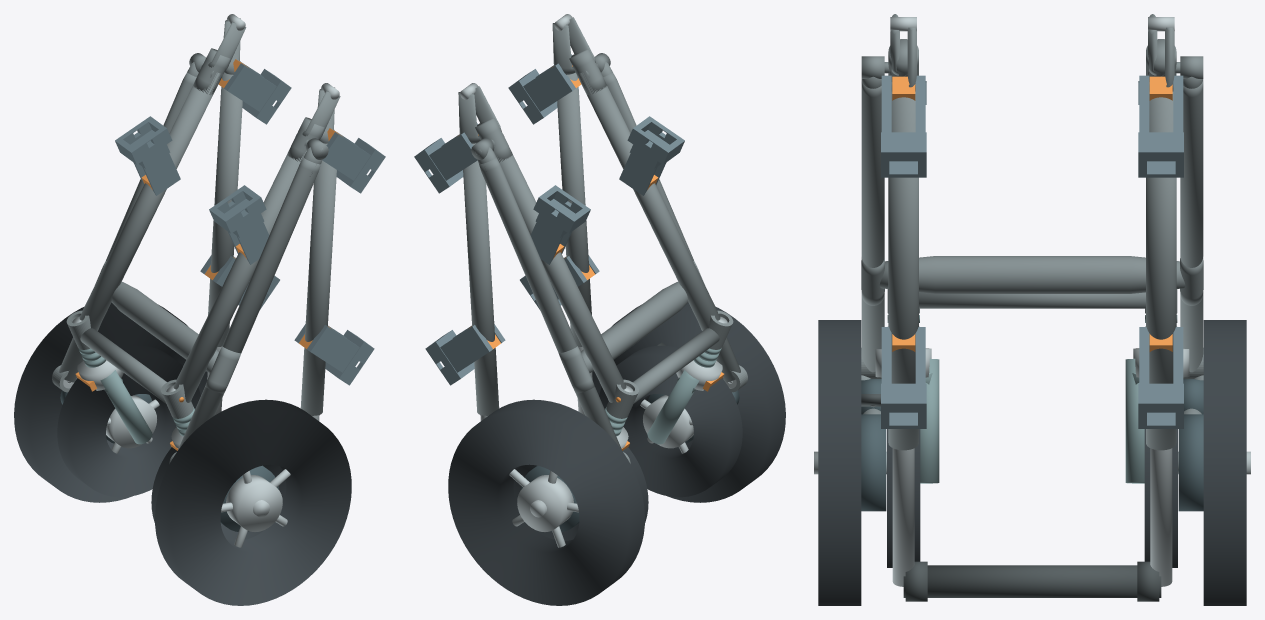
Rendered from w380_state3_wheel_M.glb.
The picture shows the model from 3 angles, left to right: view 1: azimuth 30°, elevation 25°; view 2: azimuth 150°, elevation 25°; view 3: azimuth 270°, elevation 25°; orthographic projection. The views are drawn at different scales.
Parts seen in each view (by area): view 1: RL_tire.013, FR_tire.013, RR_tire.013, V46_rear_leg_-1, main_upper_-1.001, main_lower_1.001, main_lower_-1.001, main_upper_1.001, Universal_Cabin_Receiver_L_1, V46_rearbar, Universal_Cabin_Receiver_L_-1, Universal_Cabin_Receiver_H_-1 (+18 smaller); view 2: RR_tire.013, FL_tire.013, RL_tire.013, V46_rear_leg_1, main_upper_1.001, main_lower_-1.001, main_lower_1.001, main_upper_-1.001, Universal_Cabin_Receiver_L_-1, V46_rearbar, Universal_Cabin_Receiver_L_1, Universal_Cabin_Receiver_H_1 (+18 smaller); view 3: RL_tire.013, RR_tire.013, V46_rearbar, main_upper_1.001, main_upper_-1.001, round_handle.012, V46_rear_leg_1, V46_rear_leg_-1, front_fixed_round_tube.012, Universal_Cabin_Receiver_M_1, Universal_Cabin_Receiver_M_-1, Universal_Cabin_Receiver_H_1 (+16 smaller).
Boxes of the visible parts, box(x1,y1,x2,y2) form: RL_tire.013: box(155, 399, 351, 605); FR_tire.013: box(57, 345, 200, 497); RR_tire.013: box(14, 302, 207, 502); V46_rear_leg_-1: box(178, 157, 320, 449); main_upper_-1.001: box(300, 143, 336, 415); main_lower_1.001: box(79, 72, 220, 330); main_lower_-1.001: box(173, 151, 306, 402); main_upper_1.001: box(208, 72, 242, 346); Universal_Cabin_Receiver_L_1: box(115, 116, 180, 195); V46_rearbar: box(111, 282, 218, 372); Universal_Cabin_Receiver_L_-1: box(209, 185, 269, 264); Universal_Cabin_Receiver_H_-1: box(294, 324, 374, 385); RR_tire.013: box(448, 399, 644, 605); FL_tire.013: box(599, 345, 742, 497); RL_tire.013: box(592, 302, 785, 502); V46_rear_leg_1: box(479, 157, 621, 449); main_upper_1.001: box(463, 143, 499, 415); main_lower_-1.001: box(579, 72, 720, 330); main_lower_1.001: box(493, 151, 626, 402); main_upper_-1.001: box(557, 72, 591, 346); Universal_Cabin_Receiver_L_-1: box(619, 116, 684, 195); V46_rearbar: box(581, 282, 688, 372); Universal_Cabin_Receiver_L_1: box(530, 185, 590, 264); Universal_Cabin_Receiver_H_1: box(425, 324, 505, 385); RL_tire.013: box(818, 320, 861, 605); RR_tire.013: box(1203, 320, 1246, 605); V46_rearbar: box(879, 256, 1185, 293); main_upper_1.001: box(1146, 92, 1176, 450); main_upper_-1.001: box(888, 92, 918, 450); round_handle.012: box(903, 565, 1161, 597); V46_rear_leg_1: box(1180, 79, 1203, 372); V46_rear_leg_-1: box(861, 79, 884, 372); front_fixed_round_tube.012: box(919, 292, 1145, 308); Universal_Cabin_Receiver_M_1: box(1138, 75, 1183, 177); Universal_Cabin_Receiver_M_-1: box(881, 75, 926, 177); Universal_Cabin_Receiver_H_1: box(1138, 327, 1183, 428).
Bounding box in the file's own units: 0.3941 × 0.7426 × 0.458.
